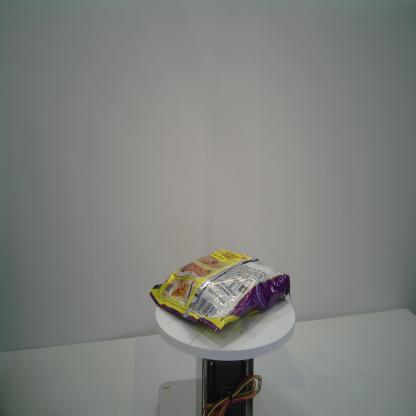Instant Noodles: (147, 248, 293, 333)
